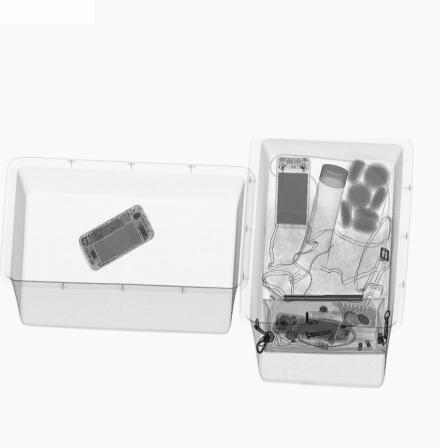Powerbank: (273, 156, 312, 229)
